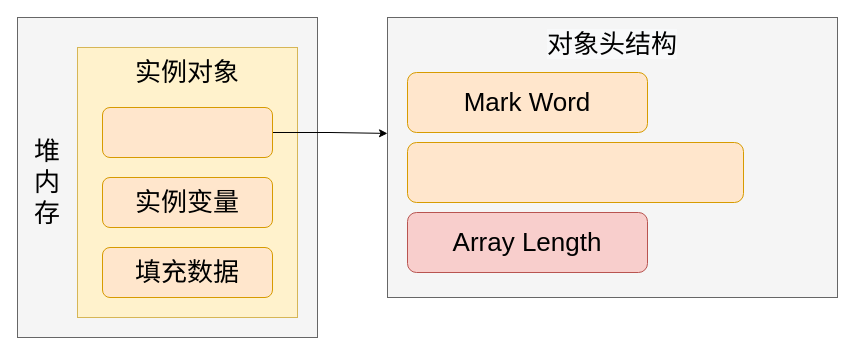
The diagram is 855 pixels wide and 355 high, and some of its shapes have lost their labels. Each missing label, with the box of its shape:
Class Metadata Address: (406, 142, 744, 202)
对象头: (102, 106, 272, 158)
